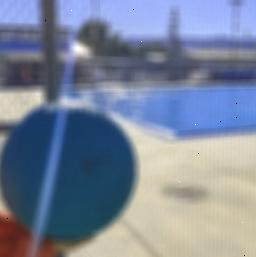algae: (0, 99, 142, 242)
